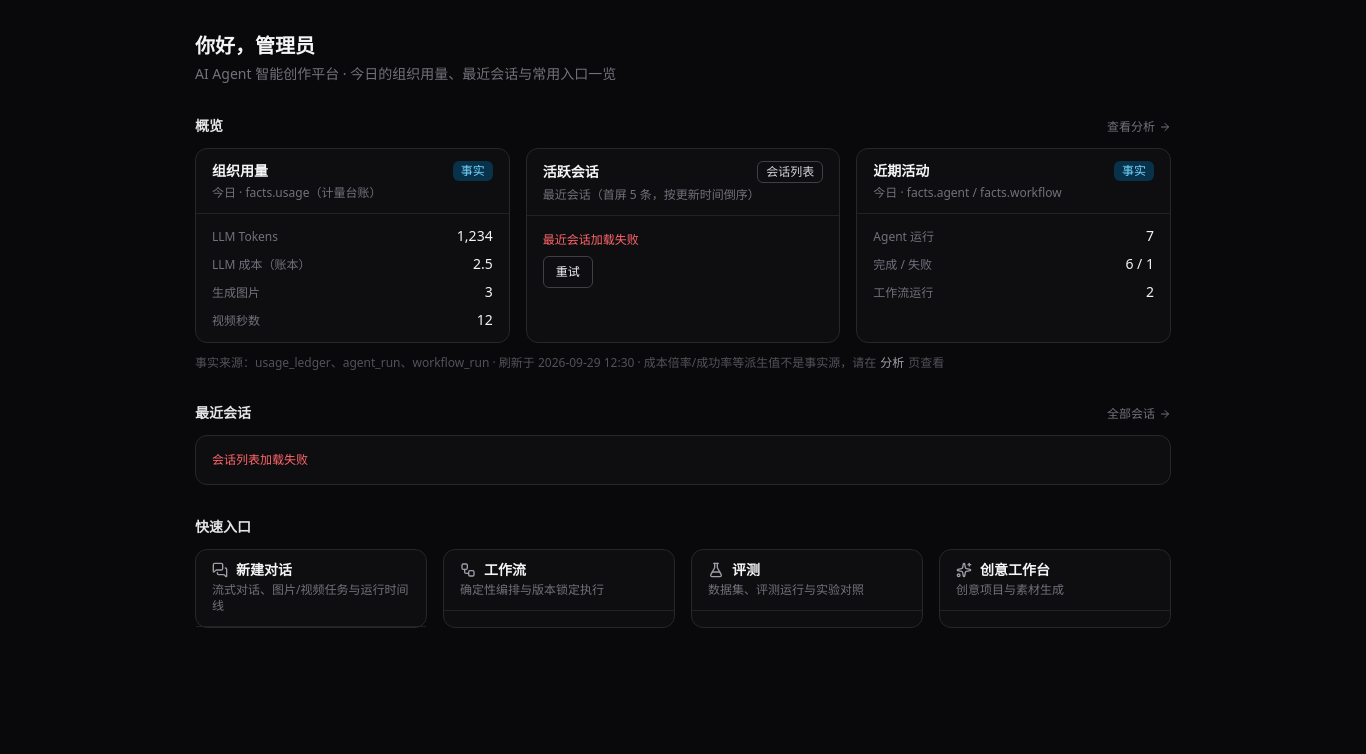
Test: Dashboard 最近会话 › 失败 → 错误态 + 重试；重试成功后列表出现（且不残留错误文案）
expect the text "最近会话加载失败" is shown: met, box [543,231,639,248]
expect the text "会话列表加载失败" is shown: met, box [212,451,308,468]
Click the button "重试": [568, 272] box [543,256,593,288]
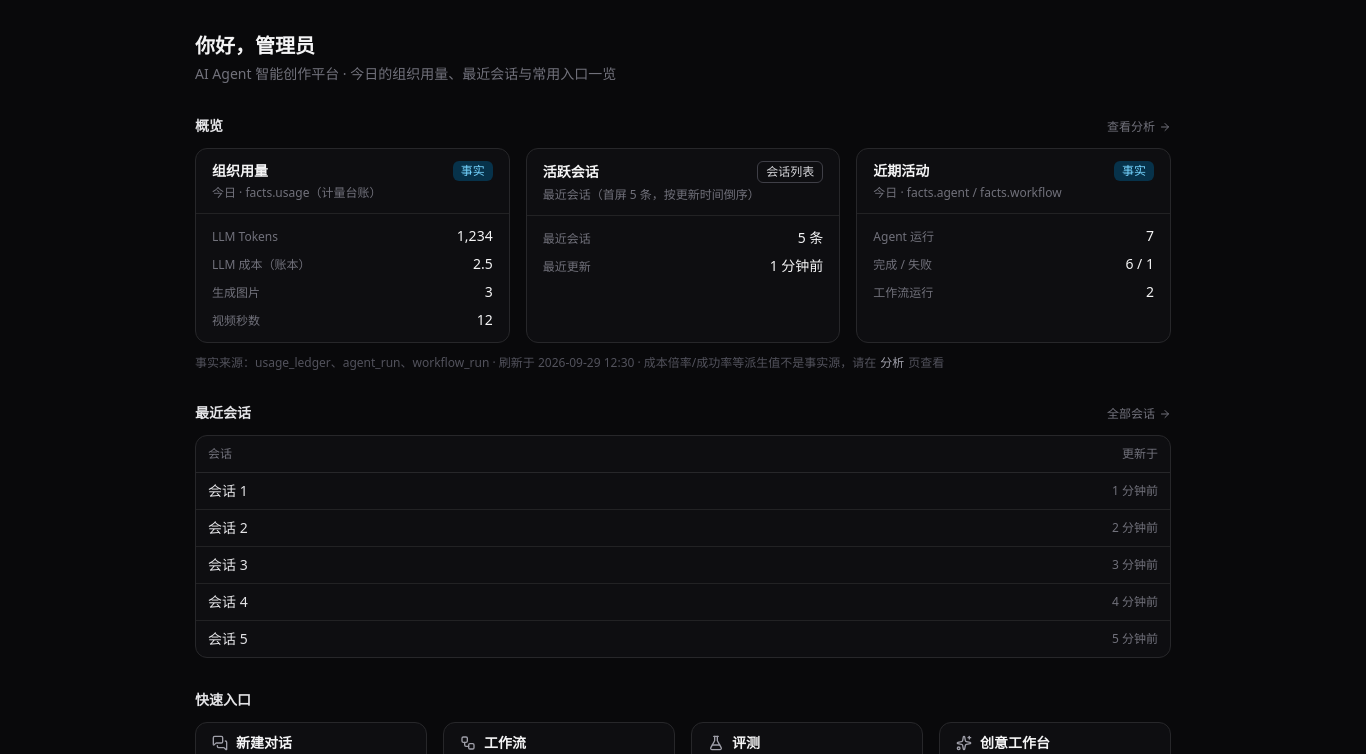
expect the link "会话 1" is shown: met, box [208,480,248,500]
expect the text "最近会话加载失败" is gone: met
expect the text "会话列表加载失败" is gone: met
